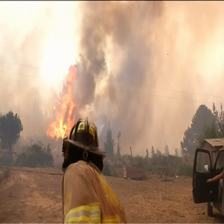fire: (41, 67, 80, 140)
